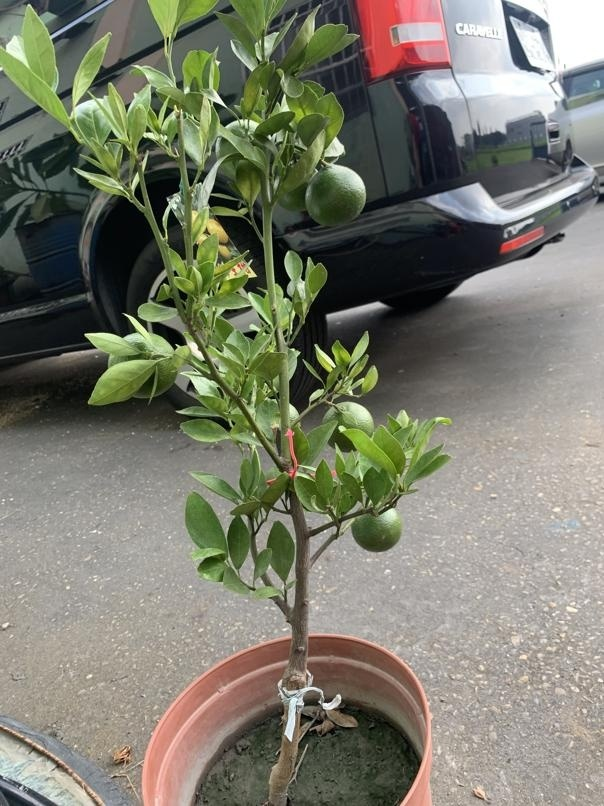Tangerine: (302, 162, 367, 228), (351, 508, 404, 553)
